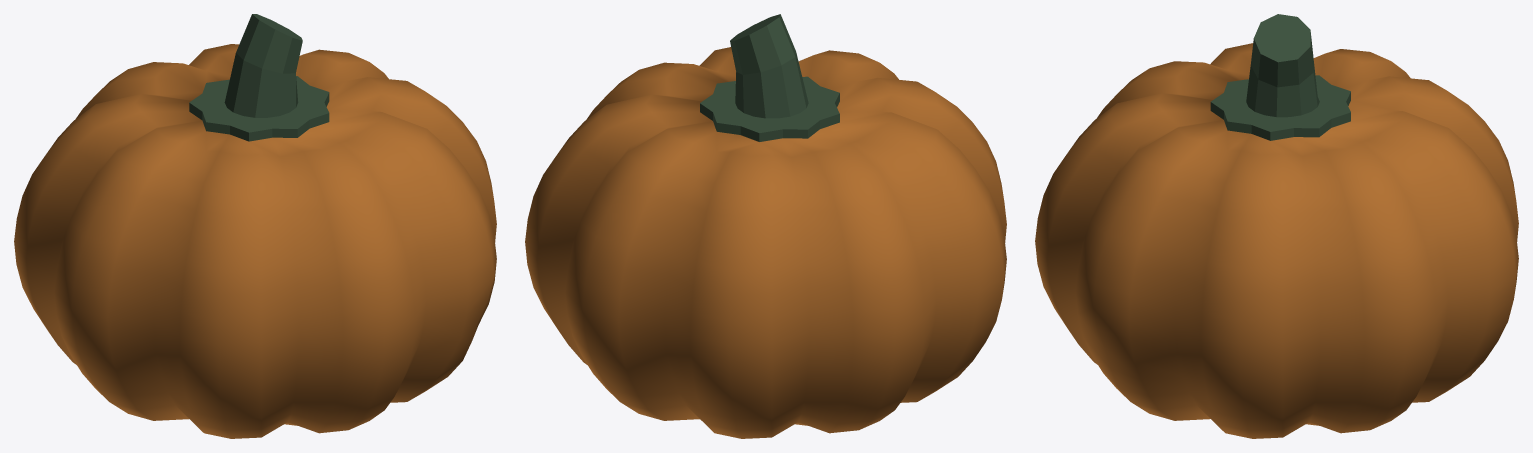
The model's file is pumpkinBig.glb.
3 renders of one model, left to right at view 1: azimuth 30°, elevation 25°; view 2: azimuth 150°, elevation 25°; view 3: azimuth 270°, elevation 25°, orthographic.
Parts seen in each view (by area): view 1: PumpkinBig; view 2: PumpkinBig; view 3: PumpkinBig.
Boxes of the visible parts, x1,y1,x2,y2 form: PumpkinBig: (14, 14, 496, 438); PumpkinBig: (525, 14, 1006, 438); PumpkinBig: (1035, 14, 1518, 438).
Size of what is drawn, in the model's own units: 3.14 by 2.56 by 3.11.
1 material, 1 textured.
